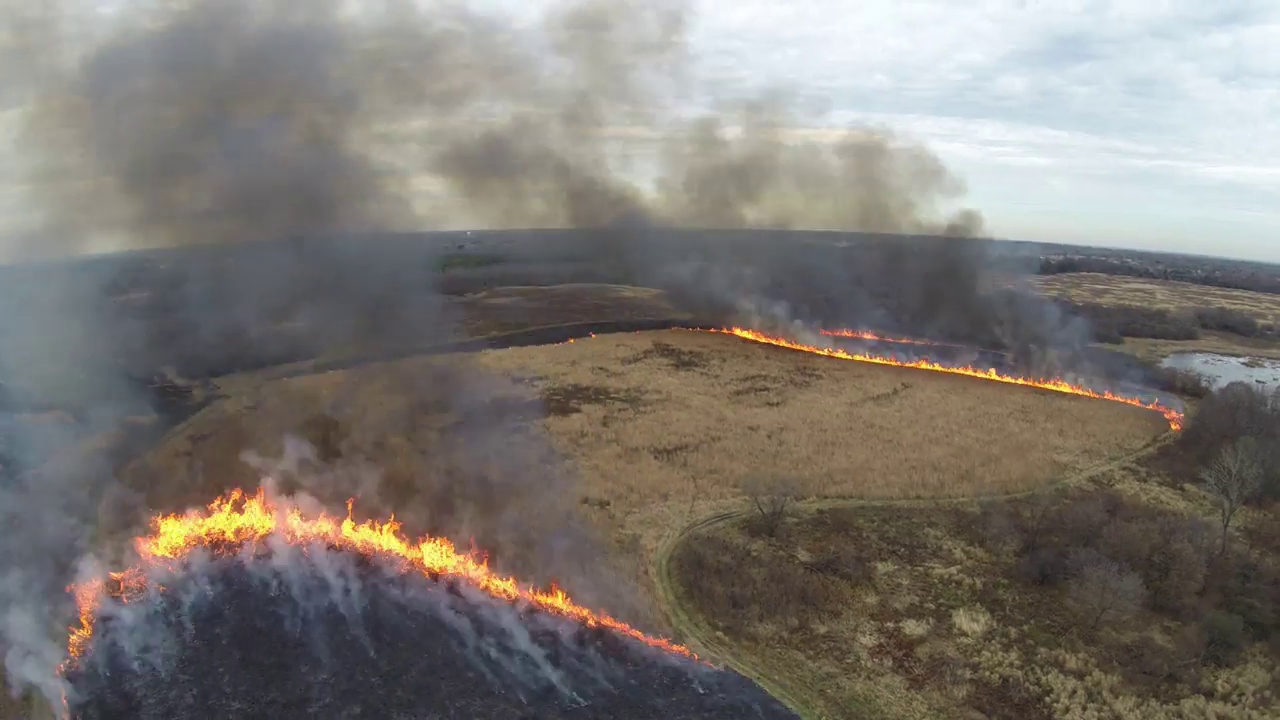forest_fire: (64, 488, 701, 670), (711, 327, 1184, 429), (819, 329, 901, 340), (914, 340, 920, 343)
